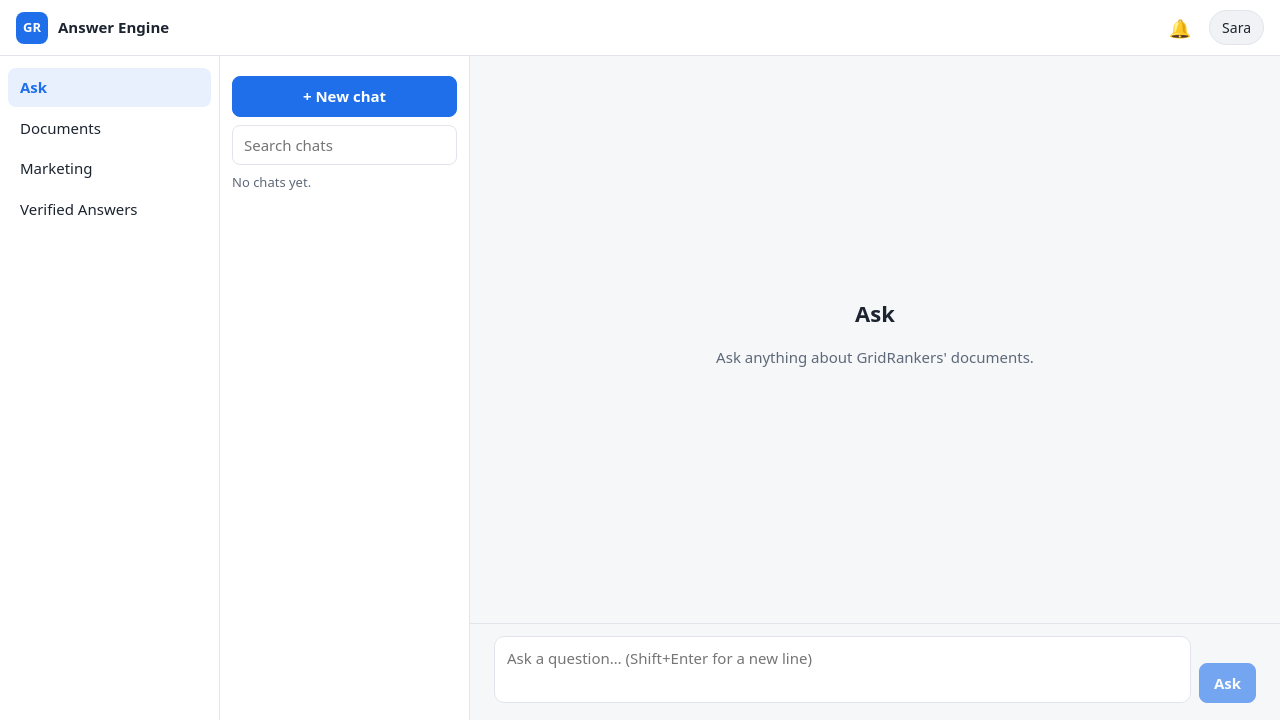
asking streams the answer and shows its sources
Type "What does Pro cost?" into the text box named "Your question". click: (842, 670)
box: [494, 636, 1191, 703]
Then press Enter
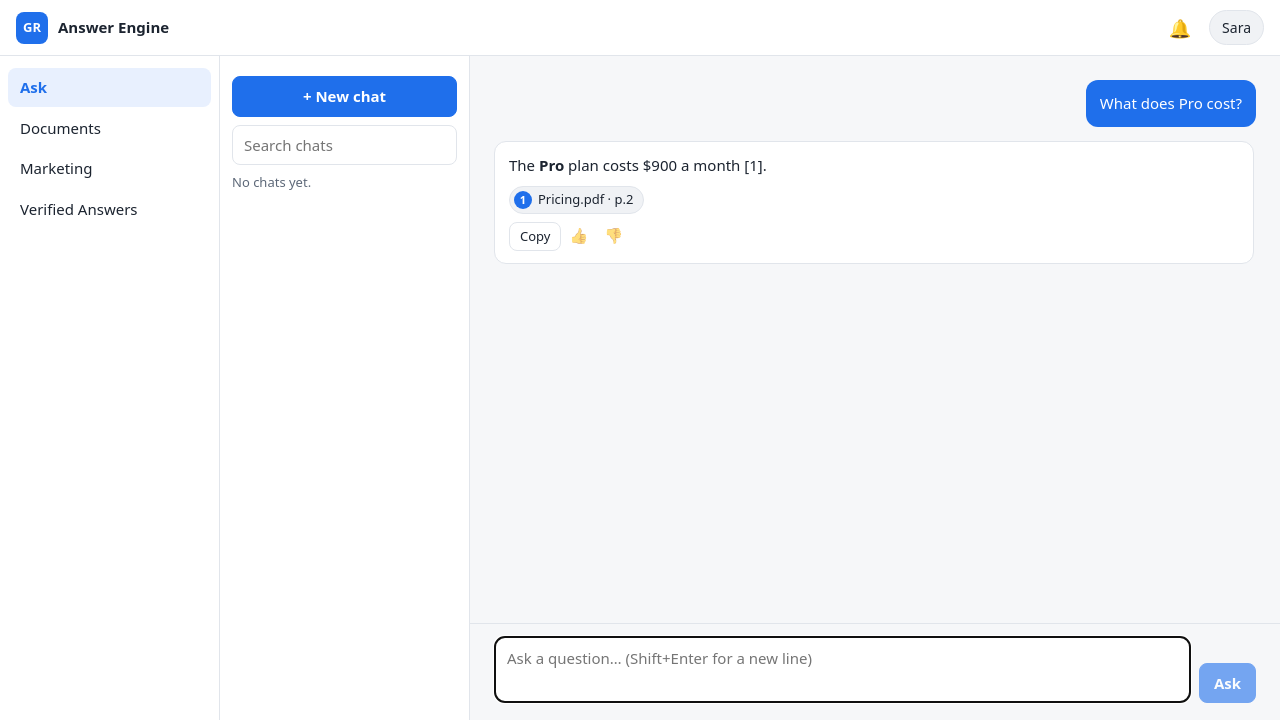
expect the text "Pro" is shown: met, box [539, 154, 564, 174]
expect the text "What does Pro cost?" is shown: met, box [1086, 80, 1256, 126]
expect the button "Copy" is shown: met, box [509, 222, 562, 251]
